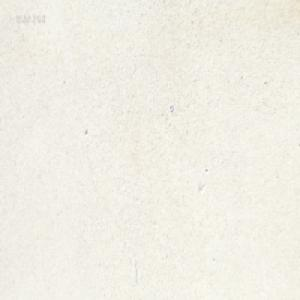Washer: (169, 104, 173, 112)
